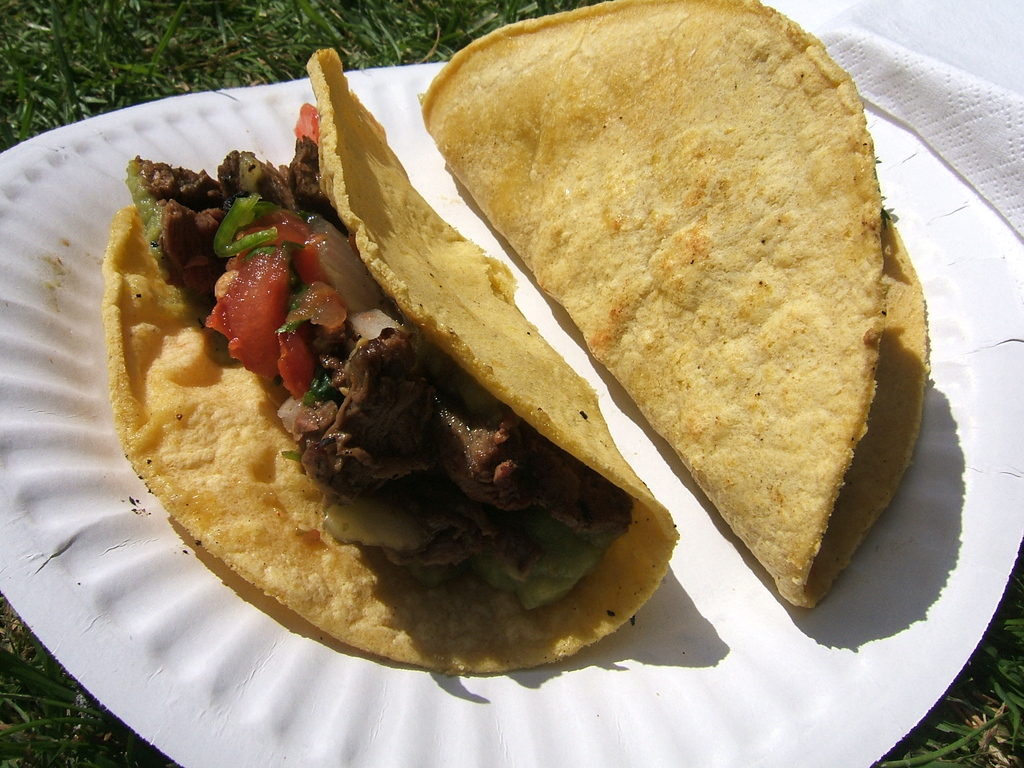taco: (100, 45, 687, 682), (415, 0, 927, 607)
